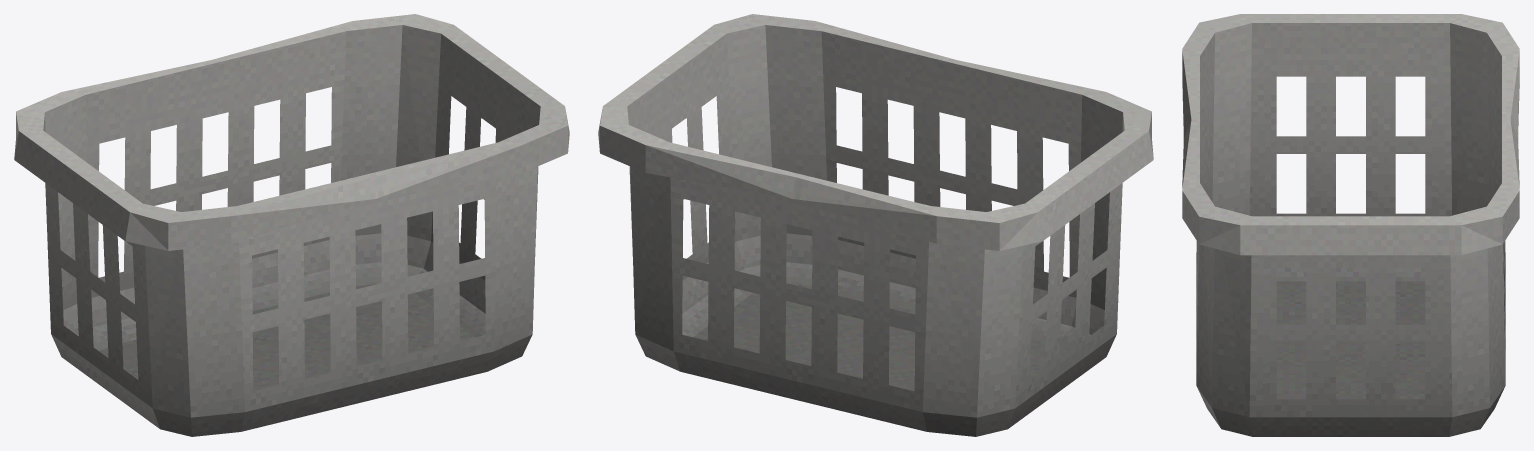
The model's file is laundry-basket_empty.glb.
The picture shows the model from 3 angles, left to right: view 1: azimuth 30°, elevation 25°; view 2: azimuth 150°, elevation 25°; view 3: azimuth 270°, elevation 25°; orthographic projection.
Visible parts, largest first — view 1: laundry-basket_empty-col; view 2: laundry-basket_empty-col; view 3: laundry-basket_empty-col.
Part boxes in pixels (bbox=[...]): laundry-basket_empty-col: bbox=[14, 14, 569, 436]; laundry-basket_empty-col: bbox=[598, 14, 1153, 436]; laundry-basket_empty-col: bbox=[1182, 14, 1519, 436].
Bounding box in the file's own units: 0.59 × 0.305 × 0.39.
1 material, 1 textured.
